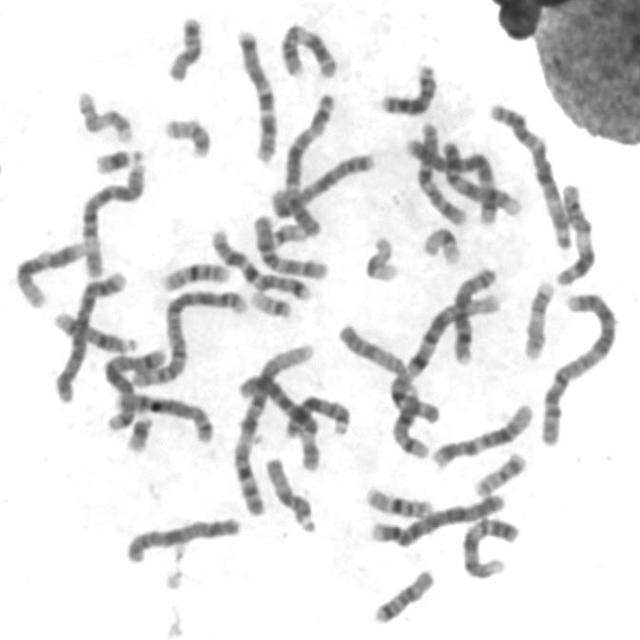A1: (383, 282, 505, 427), (227, 334, 318, 520)
A2: (534, 285, 621, 449), (127, 282, 249, 389)
A3: (483, 95, 574, 250), (276, 85, 339, 237)
B4: (47, 264, 129, 404), (364, 485, 508, 549)
B5: (398, 136, 501, 233), (98, 340, 168, 434)
C10: (408, 121, 471, 228), (247, 208, 332, 280)
C11: (550, 176, 598, 288), (274, 16, 340, 80)
C12: (426, 395, 537, 470), (11, 233, 88, 310)
C6: (232, 362, 323, 477), (76, 152, 150, 280)
C7: (206, 222, 313, 301), (229, 21, 281, 164)
C8: (106, 384, 217, 445), (447, 264, 501, 364)
C9: (438, 132, 527, 226), (456, 509, 522, 581)
D13: (374, 55, 440, 117), (278, 387, 354, 440)
D14: (48, 304, 140, 355), (391, 382, 441, 467)
D15: (260, 450, 320, 535), (333, 318, 409, 376)
E16: (359, 479, 436, 520), (155, 254, 233, 293)
E17: (70, 82, 136, 144), (518, 272, 558, 362)
E18: (368, 562, 437, 625), (160, 8, 205, 83)
F19: (359, 228, 402, 284), (417, 220, 463, 266)
F20: (469, 445, 530, 498), (157, 109, 215, 159)
G21: (88, 141, 146, 176), (121, 408, 156, 455)
G22: (245, 283, 295, 319), (265, 216, 310, 250)
X: (266, 146, 378, 219), (119, 509, 244, 566)
